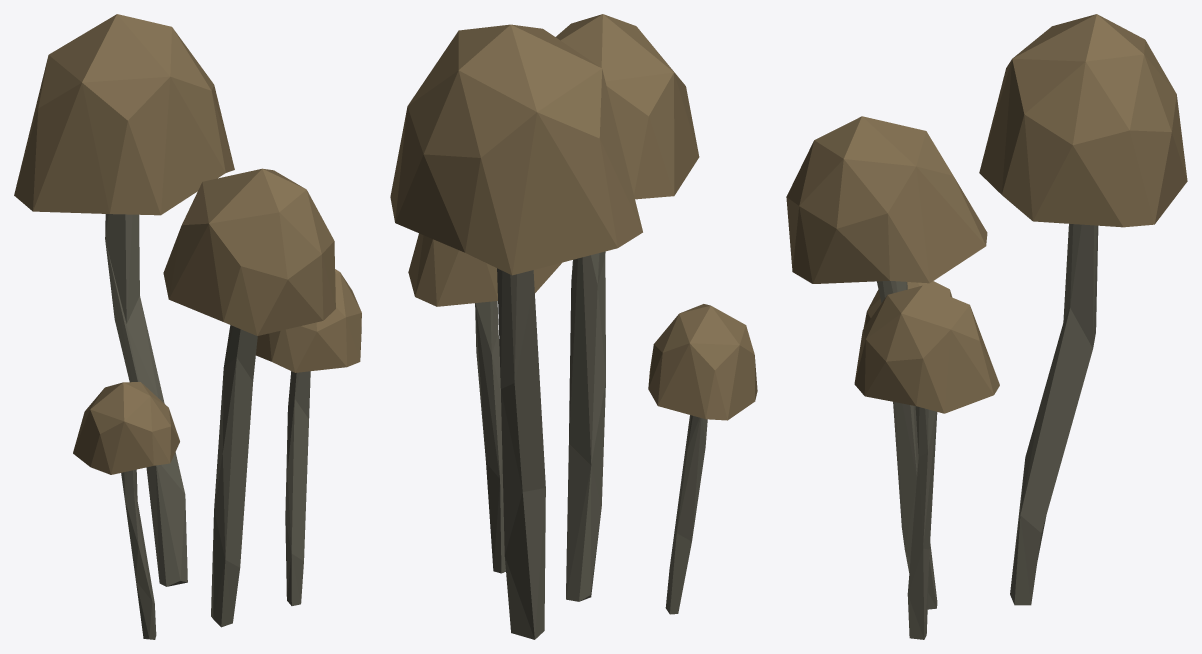
File: mushroom-08.glb
3 renders of one model, left to right at view 1: azimuth 30°, elevation 25°; view 2: azimuth 150°, elevation 25°; view 3: azimuth 270°, elevation 25°, orthographic. The views are drawn at different scales.
Visible parts, largest first — view 1: Mushroom1_1; view 2: Mushroom1_1; view 3: Mushroom1_1.
Part boxes in pixels (x1=…): Mushroom1_1: x1=14, y1=14, x2=361, y2=639; Mushroom1_1: x1=390, y1=14, x2=757, y2=639; Mushroom1_1: x1=786, y1=14, x2=1187, y2=639.
Bounding box in the file's own units: 0.3518 × 0.6732 × 0.4203.
